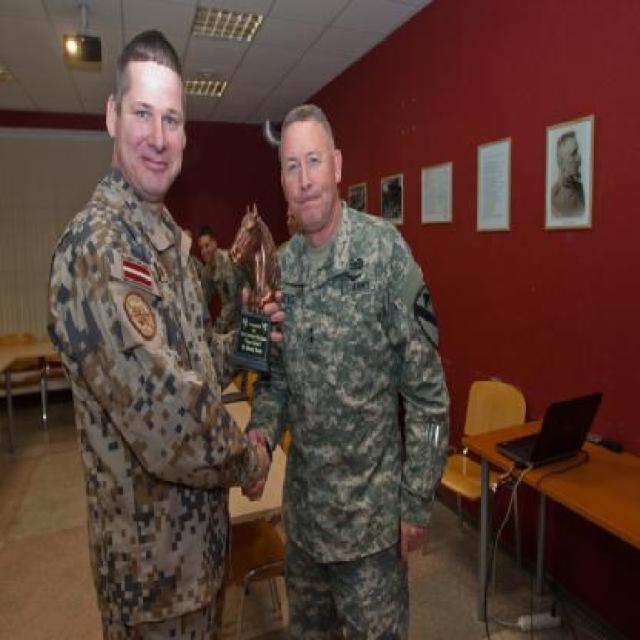Person: (47, 55, 255, 639), (238, 101, 450, 639), (198, 221, 252, 339), (550, 132, 588, 222)
